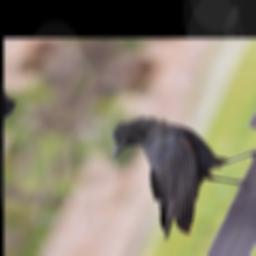Crow: (67, 109, 256, 251)
